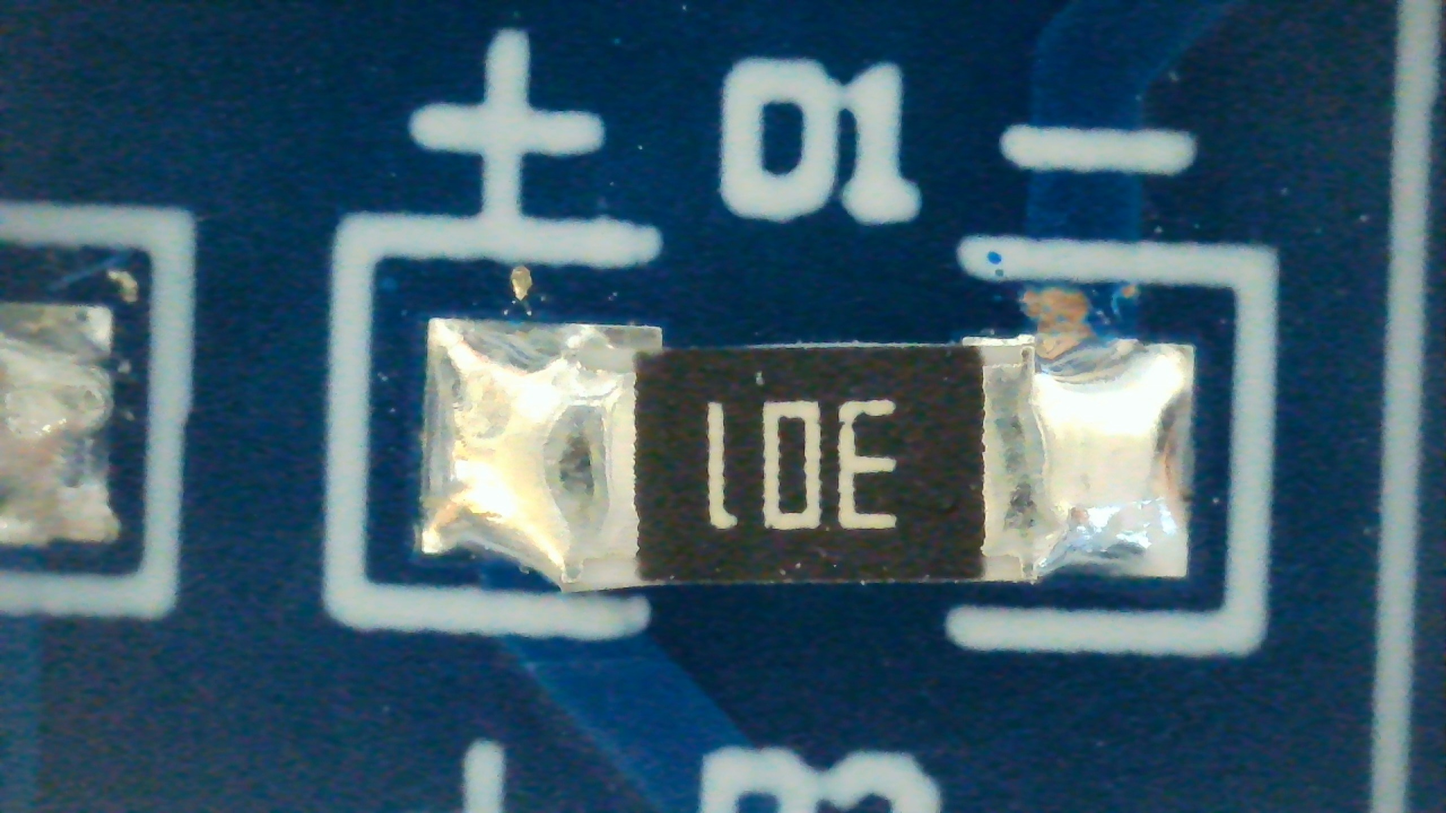NG: (422, 318, 1194, 591)
